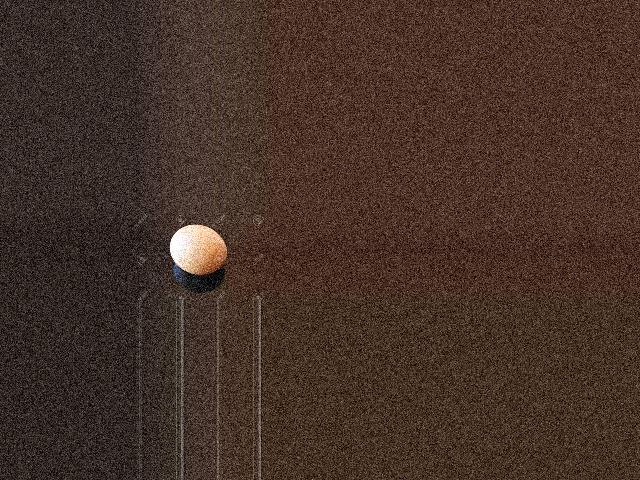egg: (169, 224, 227, 275)
